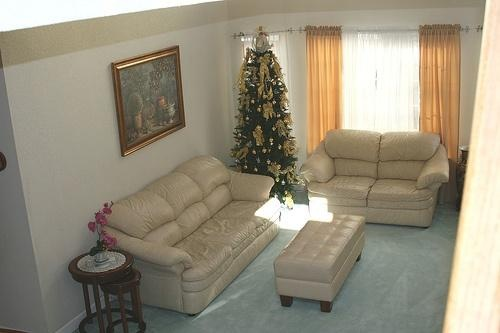pottedplant: (89, 204, 116, 262)
sofa: (93, 156, 288, 312), (302, 129, 449, 227)
